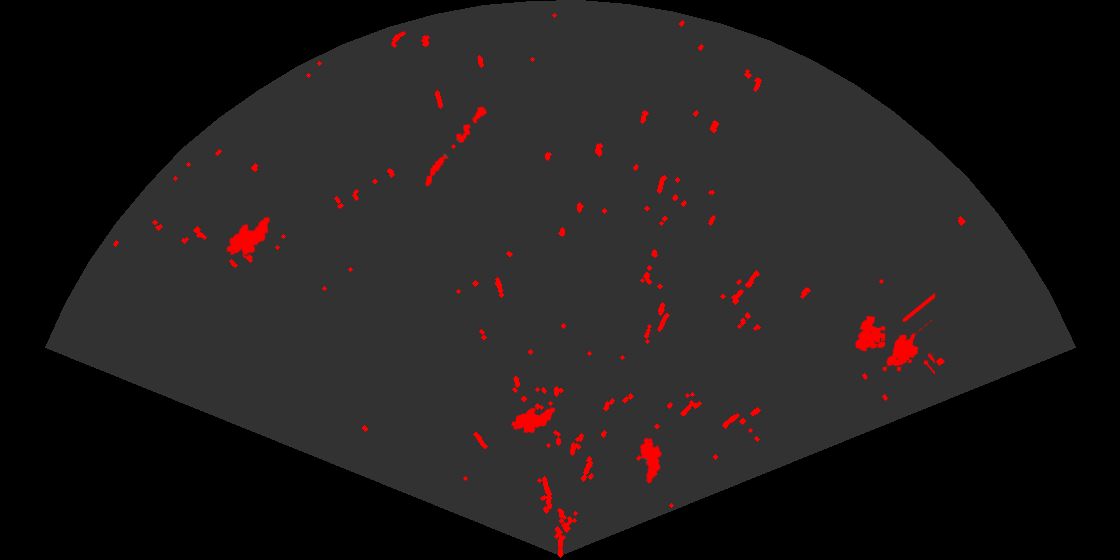AUV: (225, 215, 272, 257), (510, 406, 557, 435), (638, 436, 663, 485)
cage: (854, 293, 935, 376)
chain: (424, 105, 489, 188)
